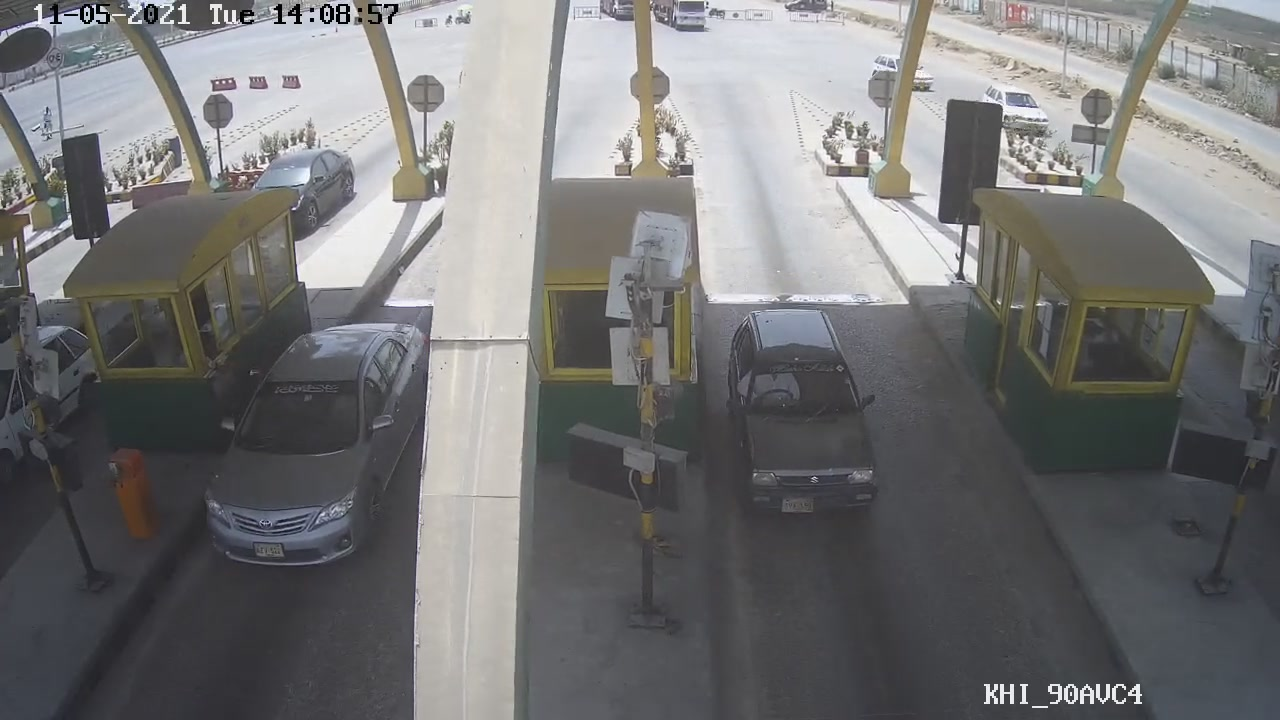F1: (728, 307, 890, 526)
